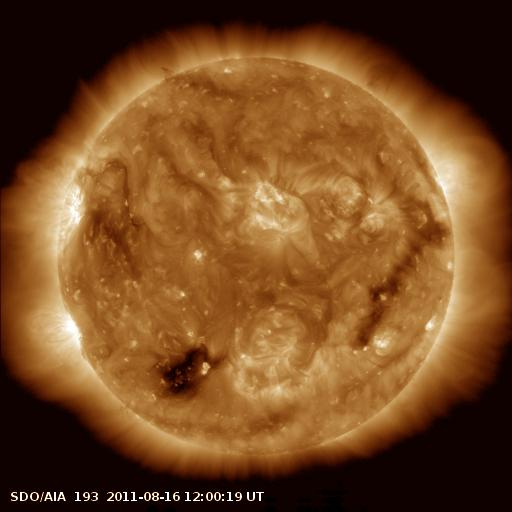coronal_hole: (155, 338, 222, 397)
